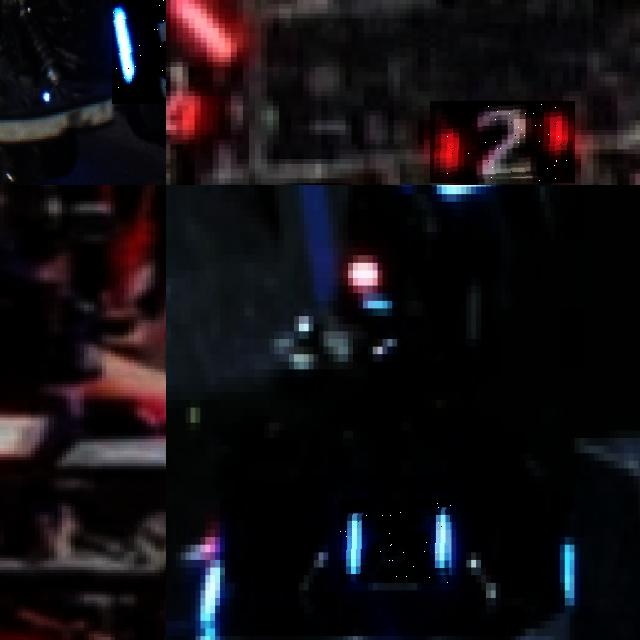B3: (112, 0, 166, 104)
Bs: (339, 499, 451, 583)
R2: (430, 101, 575, 183)
